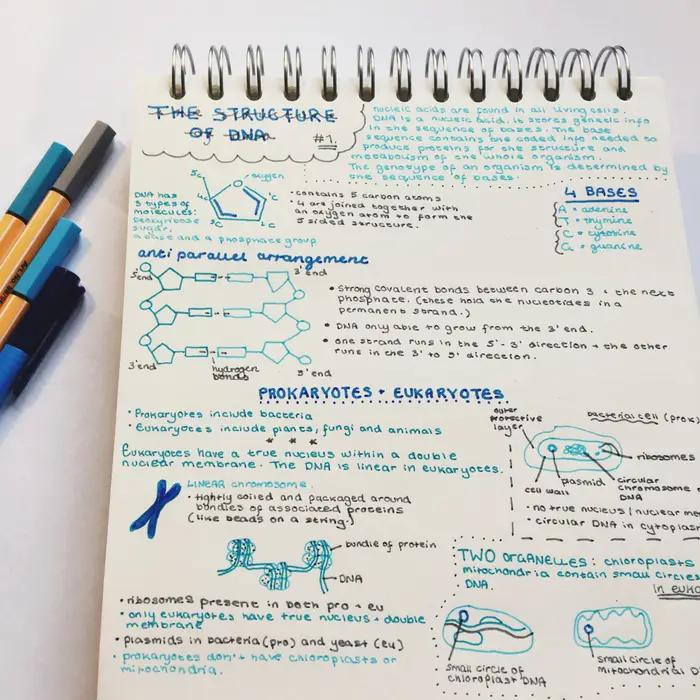metal: (0, 121, 114, 410)
paper: (0, 0, 699, 699)
